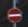No entry: (5, 6, 23, 22)
